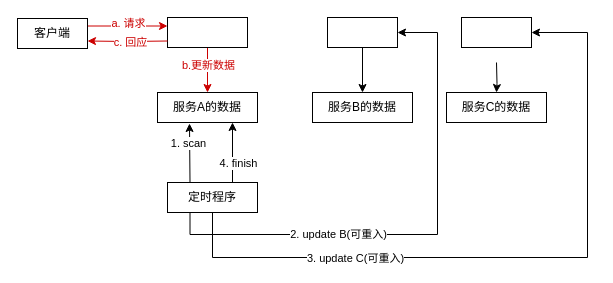
The diagram is 613 pixels wide and 283 high, and some of its shapes have lost their labels. Here are the shapes that lost their labels. From the top down, the centre of each, then its label:
(207,32): 服务A
(362,32): 服务B
(496,32): 服务C
